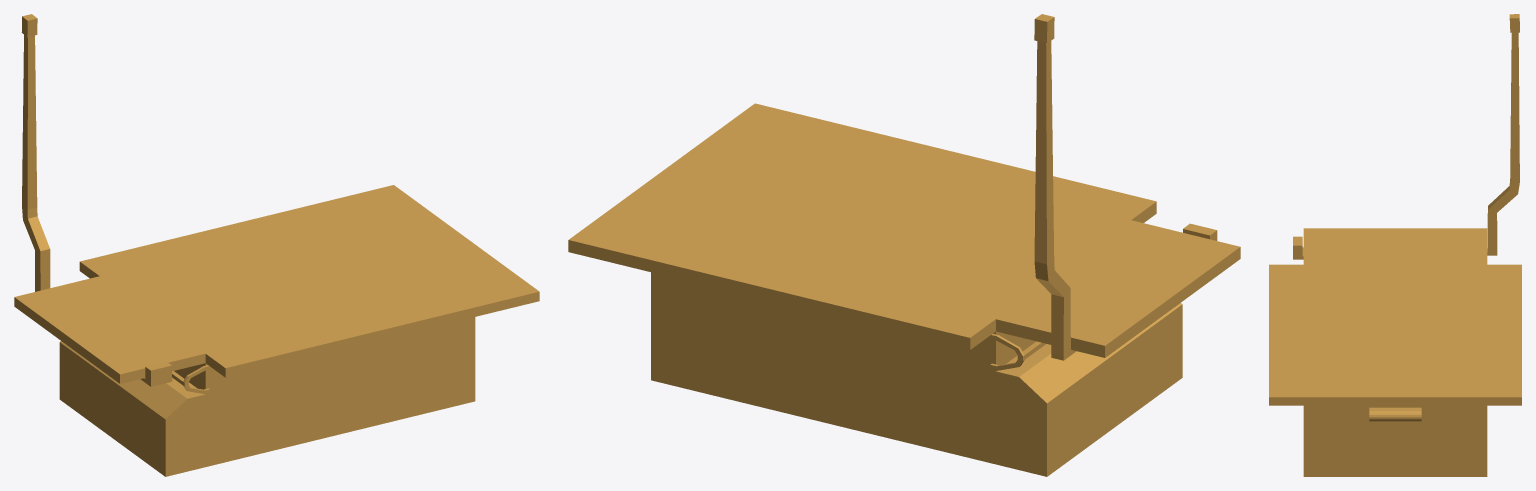
The model's file is rover-body-netfabb.glb.
3 renders of one model, left to right at view 1: azimuth 30°, elevation 25°; view 2: azimuth 150°, elevation 25°; view 3: azimuth 270°, elevation 25°, orthographic. The views are drawn at different scales.
Size of the model in its own units: 25 by 22.36 by 15.8.
